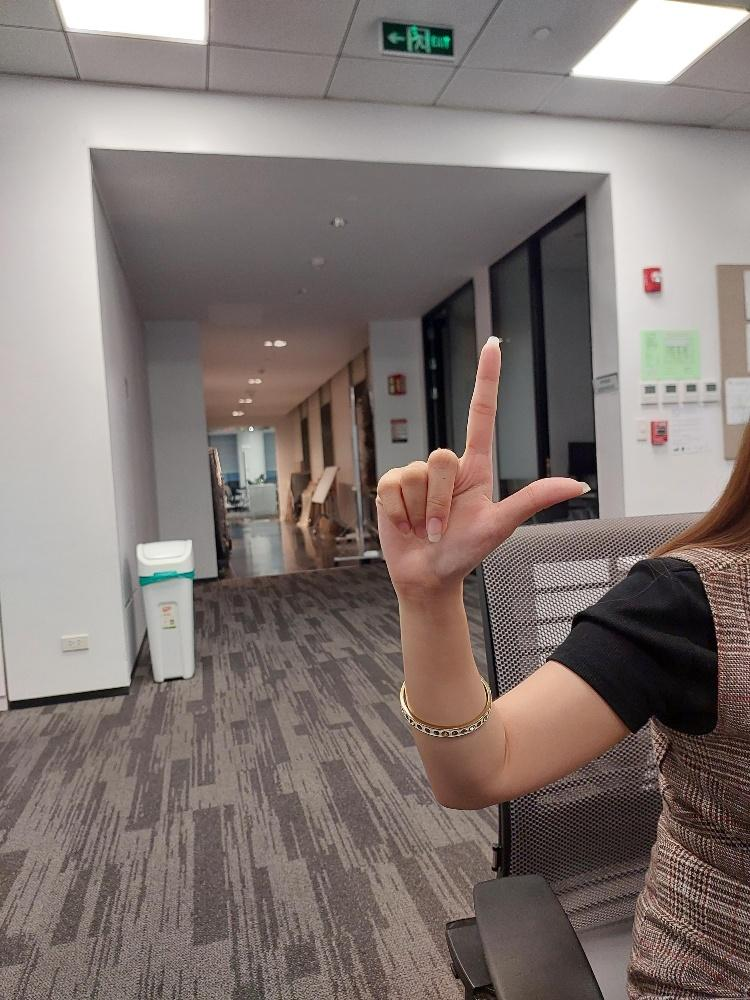l: (371, 333, 595, 593)
